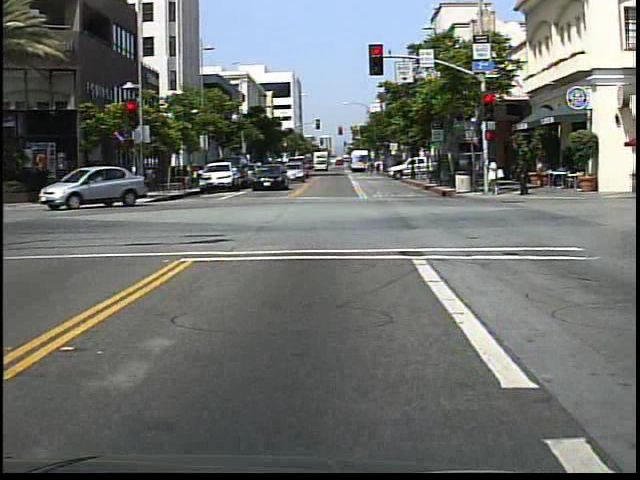person: (484, 154, 505, 202), (515, 153, 533, 196), (115, 164, 134, 204)
